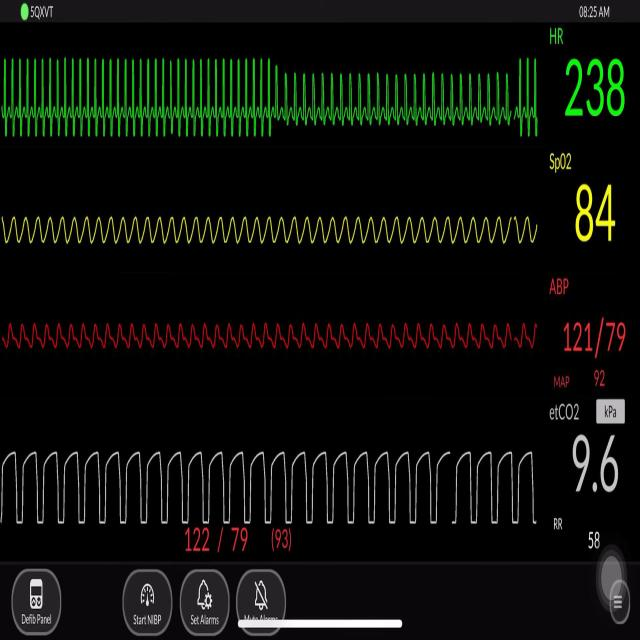danger: (8, 45, 274, 146), (278, 65, 512, 128), (514, 47, 544, 142)
